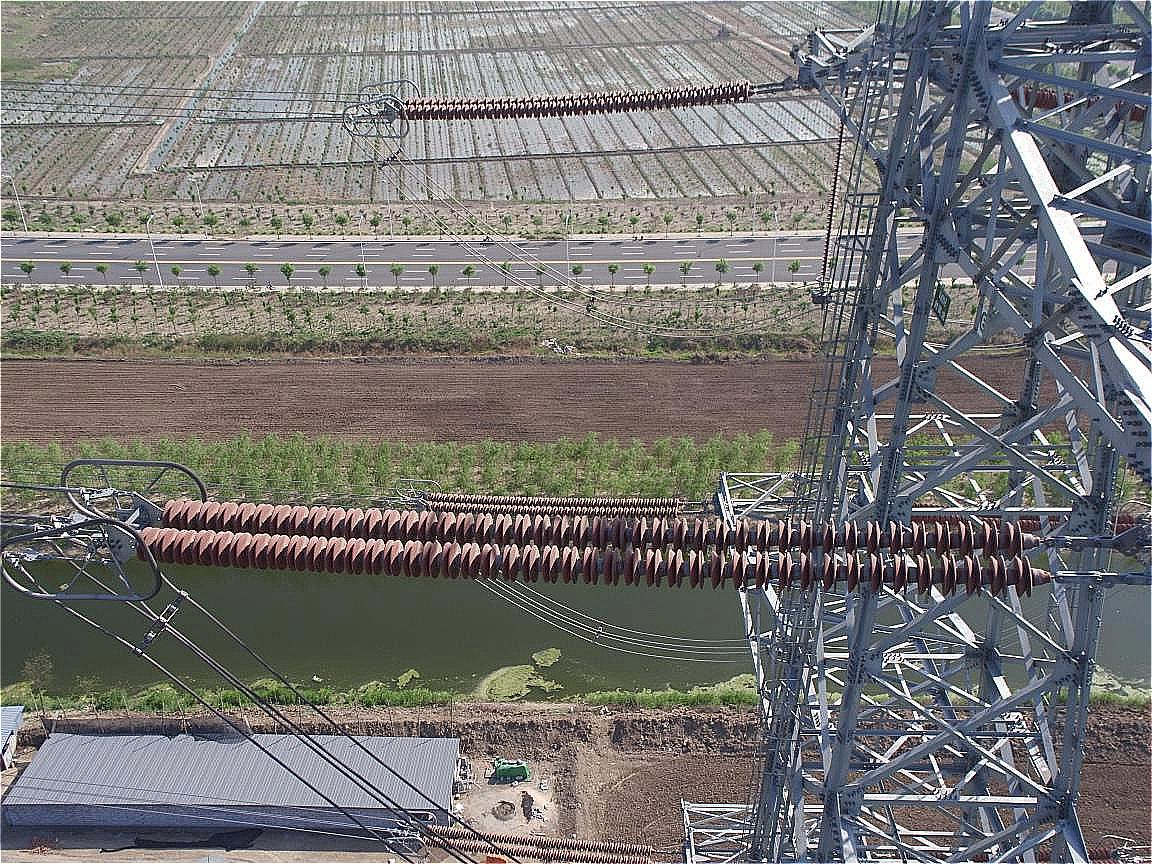insultor2: (138, 498, 1034, 599), (400, 79, 751, 122)
